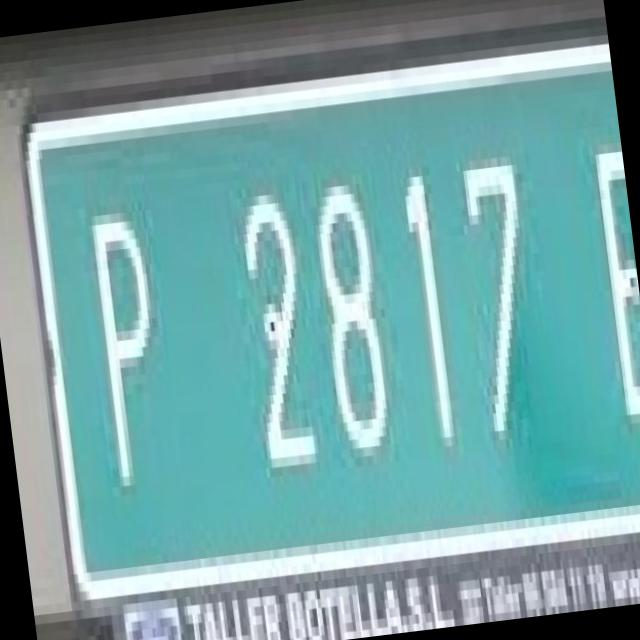LicensePlate: (13, 34, 640, 601)
